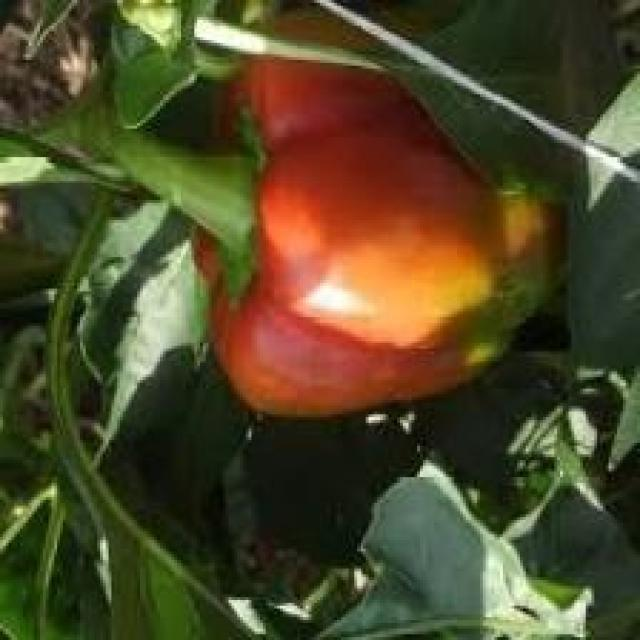Pepper: (134, 49, 569, 426)
